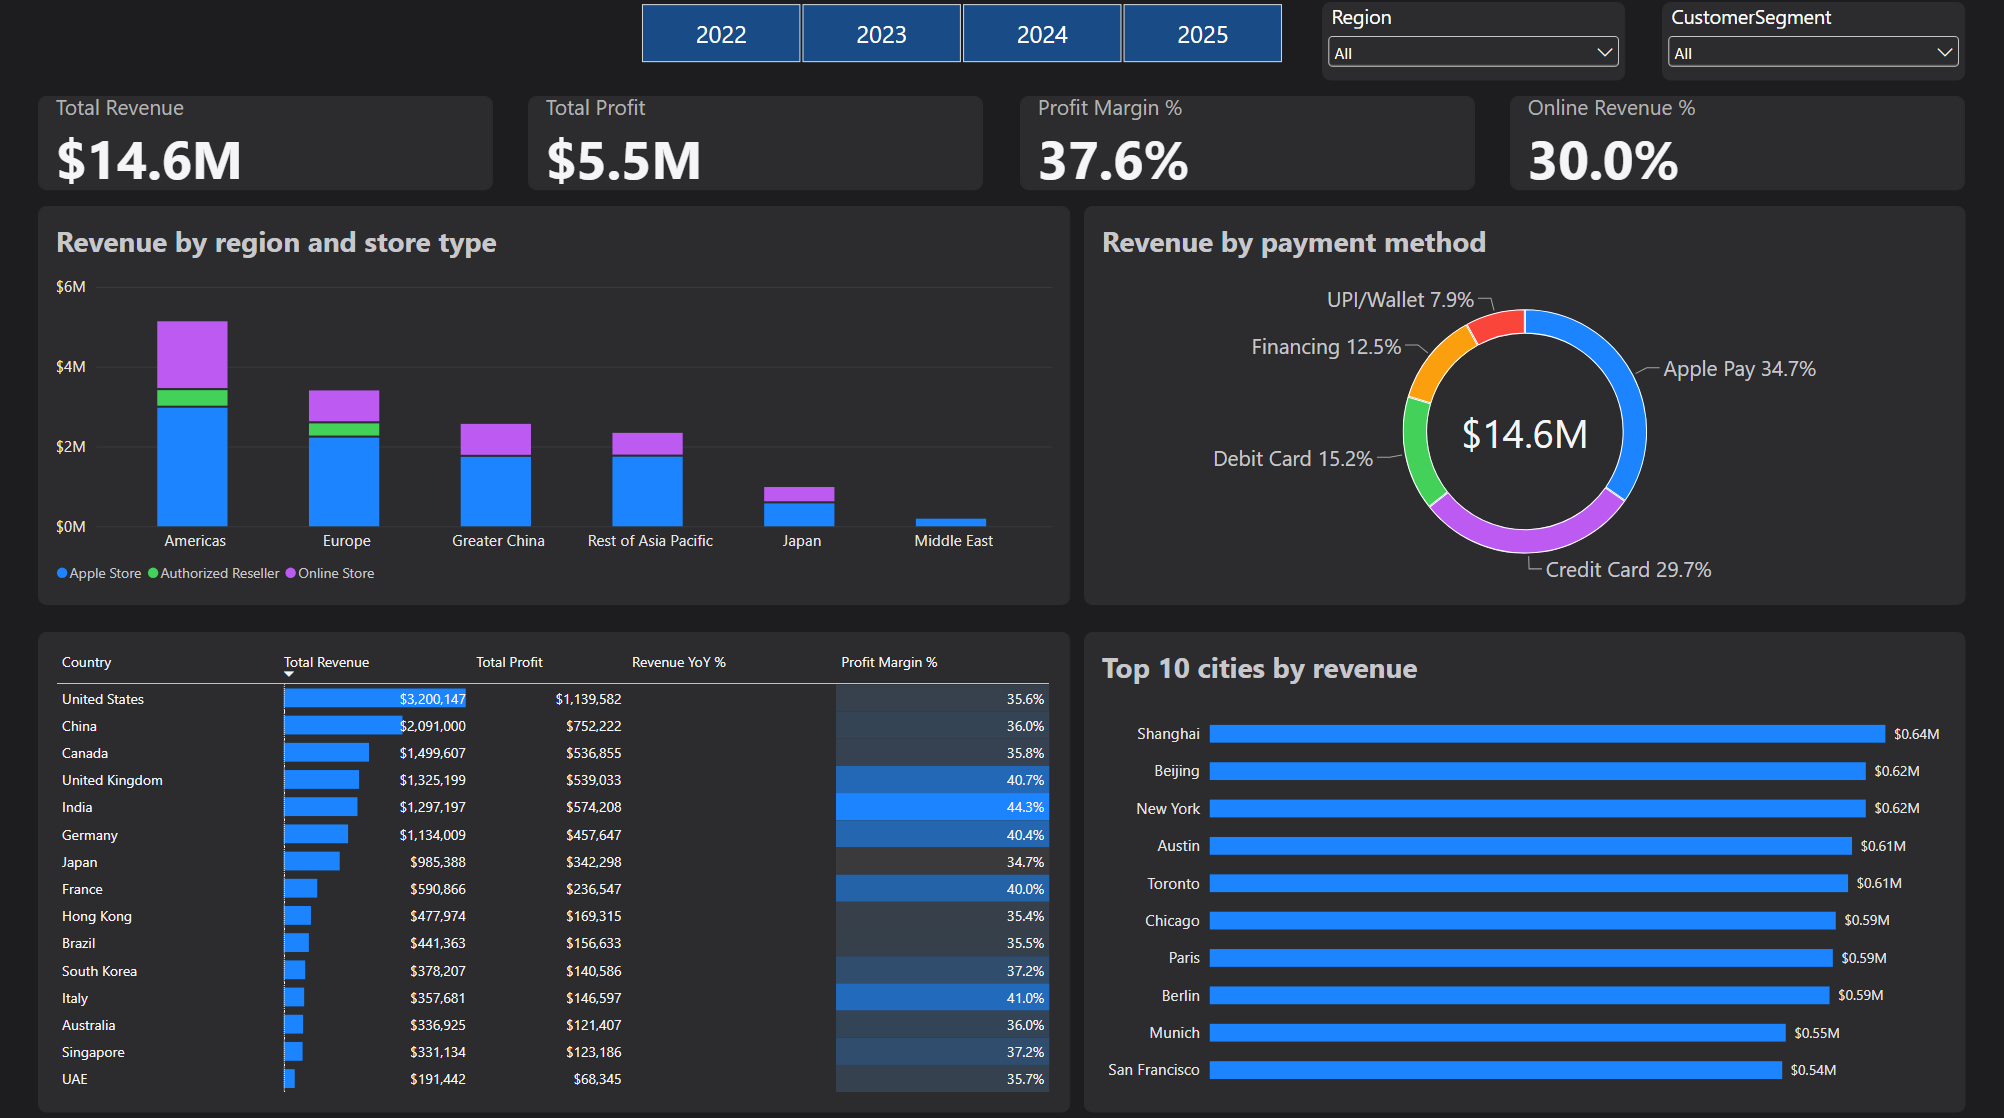

The page's visual inventory and layout, read from the dashboard file:
{"tool":"powerbi","page":{"name":"Regional & Channel Performance","canvas":[1920,1080],"ordinal":2},"visuals":[{"type":"cardVisual","fields":{"Data":["Sales.Total Revenue"]},"box":[38,99.9,435,90],"z":0},{"type":"cardVisual","fields":{"Data":["Sales.Total Profit"]},"box":[507.5,99.9,435,90],"z":1000},{"type":"cardVisual","fields":{"Data":["Sales.Profit Margin %"]},"box":[977,99.9,435,90],"z":2000},{"type":"slicer","fields":{"Values":["Date.Year"]},"box":[594.7,9.6,652.1,59.3],"z":3000},{"type":"slicer","fields":{"Values":["Store.Region"]},"box":[1266,9.6,290,75],"z":4000},{"type":"slicer","fields":{"Values":["Sales.CustomerSegment"]},"box":[1591.1,9.6,290,75],"z":5000},{"type":"cardVisual","fields":{"Data":["Sales.Online Revenue %"]},"box":[1446.5,99.9,435,90],"z":6000},{"type":"columnChart","title":"Revenue by region and store type","fields":{"Category":["Store.Region"],"Series":["Store.StoreType"],"Y":["Sales.Total Revenue"]},"box":[38,203.8,987,381.6],"z":7000},{"type":"clusteredBarChart","title":"Top 10 cities by revenue","fields":{"Category":["Store.City"],"Y":["Sales.Total Revenue"]},"box":[1038.9,611.4,843.1,459.5],"z":8000},{"type":"tableEx","fields":{"Values":["Store.Country","Sales.Total Revenue","Sales.Total Profit","Sales.Revenue YoY %","Sales.Profit Margin %"]},"box":[38,611.4,987,459.5],"z":9000},{"type":"donutChart","title":"Revenue by payment method","fields":{"Category":["Sales.PaymentMethod"],"Y":["Sales.Total Revenue"]},"box":[1038.9,203.8,843.1,381.6],"z":10000}]}

Visuals, with their boxes in screenshot pixels (x1, y1, x2, y2), scaled from the page's 1920x1080 canvas onto the 2004x1118 screenshot:
cardVisual - Sales.Total Revenue: detection(40, 103, 494, 197)
cardVisual - Sales.Total Profit: detection(530, 103, 984, 197)
cardVisual - Sales.Profit Margin %: detection(1020, 103, 1474, 197)
slicer - Date.Year: detection(621, 10, 1301, 71)
slicer - Store.Region: detection(1321, 10, 1624, 88)
slicer - Sales.CustomerSegment: detection(1661, 10, 1963, 88)
cardVisual - Sales.Online Revenue %: detection(1510, 103, 1964, 197)
"Revenue by region and store type" columnChart: detection(40, 211, 1070, 606)
"Top 10 cities by revenue" clusteredBarChart: detection(1084, 633, 1964, 1109)
tableEx - Store.Country x Sales.Total Revenue: detection(40, 633, 1070, 1109)
"Revenue by payment method" donutChart: detection(1084, 211, 1964, 606)
